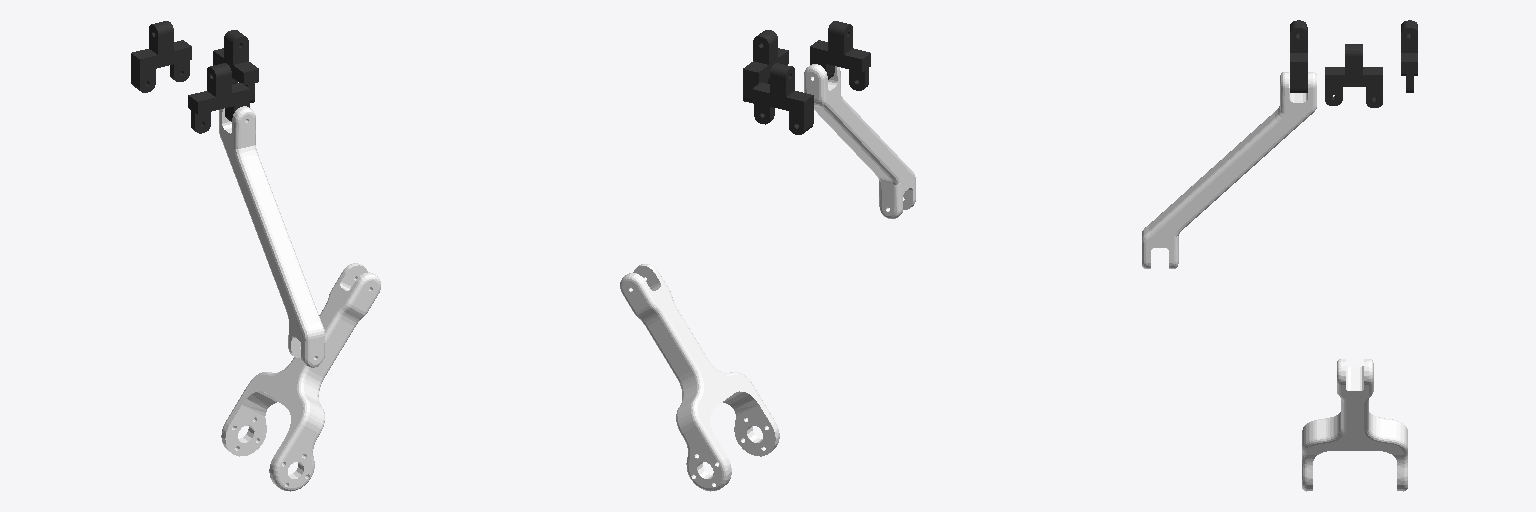
robot.urdf — blue-body2:
<?xml version="1.0" encoding="utf-8"?>
<!-- This URDF was automatically created by SolidWorks to URDF Exporter! Originally created by [author] ([email redacted]) 
     Commit Version: 1.6.0-1-g15f4949  Build Version: 1.6.7594.29634
     For more information, please see http://wiki.ros.org/sw_urdf_exporter -->
<robot
  name="blue-body2">
  <link
    name="base_link">
    <inertial>
      <origin
        xyz="0.000180861278436302 0.0010066992638707 0.0180191600373319"
        rpy="0 0 0" />
      <mass
        value="0.222069356338279" />
      <inertia
        ixx="0.00013051726595754"
        ixy="2.02778699571474E-08"
        ixz="4.11179123299776E-07"
        iyy="0.000241825516008572"
        iyz="-1.51165378052728E-06"
        izz="0.000330666767704576" />
    </inertial>
    <visual>
      <origin
        xyz="0 0 0"
        rpy="0 0 0" />
      <geometry>
        <mesh
          filename="package://blue-body2/meshes/base_link.STL" />
      </geometry>
      <material
        name="">
        <color
          rgba="0.752941176470588 0.752941176470588 0.752941176470588 1" />
      </material>
    </visual>
    <collision>
      <origin
        xyz="0 0 0"
        rpy="0 0 0" />
      <geometry>
        <mesh
          filename="package://blue-body2/meshes/base_link.STL" />
      </geometry>
    </collision>
  </link>
  <link
    name="Link11">
    <inertial>
      <origin
        xyz="0.0346 0.003463 -3.2848E-11"
        rpy="0 0 0" />
      <mass
        value="0.016687" />
      <inertia
        ixx="2.7187E-06"
        ixy="-3.1124E-07"
        ixz="2.1472E-12"
        iyy="1.195E-05"
        iyz="4.8542E-13"
        izz="9.7666E-06" />
    </inertial>
    <visual>
      <origin
        xyz="0 0 0"
        rpy="0 0 0" />
      <geometry>
        <mesh
          filename="package://blue-body2/meshes/Link11.STL" />
      </geometry>
      <material
        name="">
        <color
          rgba="1 1 1 1" />
      </material>
    </visual>
    <collision>
      <origin
        xyz="0 0 0"
        rpy="0 0 0" />
      <geometry>
        <mesh
          filename="package://blue-body2/meshes/Link11.STL" />
      </geometry>
    </collision>
  </link>
  <joint
    name="Joint11"
    type="revolute">
    <origin
      xyz="0.0279 -0.0395 0.040325"
      rpy="1.5708 -0.93181 -1.5708" />
    <parent
      link="base_link" />
    <child
      link="Link11" />
    <axis
      xyz="0 0 -1" />
    <limit
      lower="-0.785"
      upper="0.785"
      effort="100"
      velocity="10" />
  </joint>
  <link
    name="Link21">
    <inertial>
      <origin
        xyz="0.011917746161099 0 3.46944695195361E-18"
        rpy="0 0 0" />
      <mass
        value="0.00283590714079141" />
      <inertia
        ixx="1.58449114328455E-07"
        ixy="2.16706492941807E-24"
        ixz="-4.61653980291068E-25"
        iyy="2.69919583243165E-07"
        iyz="2.16286727549876E-24"
        izz="1.38027104044293E-07" />
    </inertial>
    <visual>
      <origin
        xyz="0 0 0"
        rpy="0 0 0" />
      <geometry>
        <mesh
          filename="package://blue-body2/meshes/Link21.STL" />
      </geometry>
      <material
        name="">
        <color
          rgba="0.250980392156863 0.250980392156863 0.250980392156863 1" />
      </material>
    </visual>
    <collision>
      <origin
        xyz="0 0 0"
        rpy="0 0 0" />
      <geometry>
        <mesh
          filename="package://blue-body2/meshes/Link21.STL" />
      </geometry>
    </collision>
  </link>
  <joint
    name="Joint21"
    type="revolute">
    <origin
      xyz="0.08 0.004 0"
      rpy="0 0 0.63899" />
    <parent
      link="Link11" />
    <child
      link="Link21" />
    <axis
      xyz="0 0 1" />
    <limit
      lower="-1.57"
      upper="1.57"
      effort="100"
      velocity="10" />
  </joint>
  <link
    name="Link31">
    <inertial>
      <origin
        xyz="0.0419999999999998 -8.4049715728951E-09 0.0299999999999993"
        rpy="0 0 0" />
      <mass
        value="0.0115483860896403" />
      <inertia
        ixx="5.72454936139627E-06"
        ixy="4.46491041805618E-22"
        ixz="-6.05605579279737E-06"
        iyy="1.2540943263813E-05"
        iyz="2.03071075031424E-22"
        izz="6.99727115654009E-06" />
    </inertial>
    <visual>
      <origin
        xyz="0 0 0"
        rpy="0 0 0" />
      <geometry>
        <mesh
          filename="package://blue-body2/meshes/Link31.STL" />
      </geometry>
      <material
        name="">
        <color
          rgba="1 1 1 1" />
      </material>
    </visual>
    <collision>
      <origin
        xyz="0 0 0"
        rpy="0 0 0" />
      <geometry>
        <mesh
          filename="package://blue-body2/meshes/Link31.STL" />
      </geometry>
    </collision>
  </link>
  <joint
    name="Joint31"
    type="revolute">
    <origin
      xyz="0.02 0 -0.0088"
      rpy="-1.5708 0.019311 0" />
    <parent
      link="Link21" />
    <child
      link="Link31" />
    <axis
      xyz="0 0 1" />
    <limit
      lower="-1.57"
      upper="1.57"
      effort="100"
      velocity="10" />
  </joint>
  <link
    name="Link41">
    <inertial>
      <origin
        xyz="0.0078588854038606 0.00884767772659442 3.46944695195361E-18"
        rpy="0 0 0" />
      <mass
        value="0.00259356350675444" />
      <inertia
        ixx="1.22895172299773E-07"
        ixy="-1.8405238722096E-08"
        ixz="2.19747941719554E-24"
        iyy="1.38231154748668E-07"
        iyz="7.88832238961713E-24"
        izz="2.38051489435071E-07" />
    </inertial>
    <visual>
      <origin
        xyz="0 0 0"
        rpy="0 0 0" />
      <geometry>
        <mesh
          filename="package://blue-body2/meshes/Link41.STL" />
      </geometry>
      <material
        name="">
        <color
          rgba="0.250980392156863 0.250980392156863 0.250980392156863 1" />
      </material>
    </visual>
    <collision>
      <origin
        xyz="0 0 0"
        rpy="0 0 0" />
      <geometry>
        <mesh
          filename="package://blue-body2/meshes/Link41.STL" />
      </geometry>
    </collision>
  </link>
  <joint
    name="Joint41"
    type="revolute">
    <origin
      xyz="0.084 0 0.06"
      rpy="0 0 -1.5901" />
    <parent
      link="Link31" />
    <child
      link="Link41" />
    <axis
      xyz="0 0 1" />
    <limit
      lower="-1.57"
      upper="1.57"
      effort="100"
      velocity="10" />
  </joint>
  <link
    name="Link32">
    <inertial>
      <origin
        xyz="0.0419999999999999 -8.404971579834E-09 0.0299999999999993"
        rpy="0 0 0" />
      <mass
        value="0.0115483860896403" />
      <inertia
        ixx="5.72454936139627E-06"
        ixy="1.29206127228203E-21"
        ixz="-6.05605579279737E-06"
        iyy="1.2540943263813E-05"
        iyz="8.0666589277919E-22"
        izz="6.99727115654008E-06" />
    </inertial>
    <visual>
      <origin
        xyz="0 0 0"
        rpy="0 0 0" />
      <geometry>
        <mesh
          filename="package://blue-body2/meshes/Link32.STL" />
      </geometry>
      <material
        name="">
        <color
          rgba="1 1 1 1" />
      </material>
    </visual>
    <collision>
      <origin
        xyz="0 0 0"
        rpy="0 0 0" />
      <geometry>
        <mesh
          filename="package://blue-body2/meshes/Link32.STL" />
      </geometry>
    </collision>
  </link>
  <joint
    name="Joint32"
    type="revolute">
    <origin
      xyz="0.02 0 0.0088"
      rpy="-1.5708 0.019311 0" />
    <parent
      link="Link21" />
    <child
      link="Link32" />
    <axis
      xyz="0 0 1" />
    <limit
      lower="-1.57"
      upper="1.57"
      effort="100"
      velocity="10" />
  </joint>
  <link
    name="Link12">
    <inertial>
      <origin
        xyz="0.0345998920448606 0.00346296665203295 -3.28480818934107E-11"
        rpy="0 0 0" />
      <mass
        value="0.0166874190273954" />
      <inertia
        ixx="2.71867883613876E-06"
        ixy="-3.11242617968806E-07"
        ixz="2.14716480691004E-12"
        iyy="1.19502194346627E-05"
        iyz="4.85420248030247E-13"
        izz="9.76664595710977E-06" />
    </inertial>
    <visual>
      <origin
        xyz="0 0 0"
        rpy="0 0 0" />
      <geometry>
        <mesh
          filename="package://blue-body2/meshes/Link12.STL" />
      </geometry>
      <material
        name="">
        <color
          rgba="1 1 1 1" />
      </material>
    </visual>
    <collision>
      <origin
        xyz="0 0 0"
        rpy="0 0 0" />
      <geometry>
        <mesh
          filename="package://blue-body2/meshes/Link12.STL" />
      </geometry>
    </collision>
  </link>
  <joint
    name="Joint12"
    type="revolute">
    <origin
      xyz="0.0279 0.0395 0.040325"
      rpy="1.5708 -0.93181 1.5708" />
    <parent
      link="base_link" />
    <child
      link="Link12" />
    <axis
      xyz="0 0 -1" />
    <limit
      lower="-0.785"
      upper="0.785"
      effort="100"
      velocity="10" />
  </joint>
  <link
    name="Link22">
    <inertial>
      <origin
        xyz="0.011917746161099 0 -3.46944695195361E-18"
        rpy="0 0 0" />
      <mass
        value="0.00283590714079142" />
      <inertia
        ixx="1.58449114328455E-07"
        ixy="-7.19151188700481E-24"
        ixz="-1.62731935870126E-23"
        iyy="2.69919583243166E-07"
        iyz="-1.89250886606142E-24"
        izz="1.38027104044294E-07" />
    </inertial>
    <visual>
      <origin
        xyz="0 0 0"
        rpy="0 0 0" />
      <geometry>
        <mesh
          filename="package://blue-body2/meshes/Link22.STL" />
      </geometry>
      <material
        name="">
        <color
          rgba="0.250980392156863 0.250980392156863 0.250980392156863 1" />
      </material>
    </visual>
    <collision>
      <origin
        xyz="0 0 0"
        rpy="0 0 0" />
      <geometry>
        <mesh
          filename="package://blue-body2/meshes/Link22.STL" />
      </geometry>
    </collision>
  </link>
  <joint
    name="Joint22"
    type="revolute">
    <origin
      xyz="0.08 0.004 0"
      rpy="0 0 0.63899" />
    <parent
      link="Link12" />
    <child
      link="Link22" />
    <axis
      xyz="0 0 -1" />
    <limit
      lower="-1.57"
      upper="1.57"
      effort="100"
      velocity="10" />
  </joint>
  <link
    name="Link33">
    <inertial>
      <origin
        xyz="0.042 -8.404971579834E-09 0.0299999999999993"
        rpy="0 0 0" />
      <mass
        value="0.0115483860896403" />
      <inertia
        ixx="5.72454936139627E-06"
        ixy="2.65515621505318E-22"
        ixz="-6.05605579279737E-06"
        iyy="1.2540943263813E-05"
        iyz="-3.41658842070411E-22"
        izz="6.99727115654009E-06" />
    </inertial>
    <visual>
      <origin
        xyz="0 0 0"
        rpy="0 0 0" />
      <geometry>
        <mesh
          filename="package://blue-body2/meshes/Link33.STL" />
      </geometry>
      <material
        name="">
        <color
          rgba="1 1 1 1" />
      </material>
    </visual>
    <collision>
      <origin
        xyz="0 0 0"
        rpy="0 0 0" />
      <geometry>
        <mesh
          filename="package://blue-body2/meshes/Link33.STL" />
      </geometry>
    </collision>
  </link>
  <joint
    name="Joint33"
    type="revolute">
    <origin
      xyz="0.02 0 -0.0088"
      rpy="-1.5708 -0.019311 0" />
    <parent
      link="Link22" />
    <child
      link="Link33" />
    <axis
      xyz="0 0 1" />
    <limit
      lower="-1.57"
      upper="1.57"
      effort="100"
      velocity="10" />
  </joint>
  <link
    name="Link42">
    <inertial>
      <origin
        xyz="0.00785888540386061 0.00884767772659442 3.46944695195361E-17"
        rpy="0 0 0" />
      <mass
        value="0.00259356350675444" />
      <inertia
        ixx="1.22895172299773E-07"
        ixy="-1.84052387220959E-08"
        ixz="-4.96254844176532E-22"
        iyy="1.38231154748668E-07"
        iyz="-7.94924329871085E-23"
        izz="2.38051489435071E-07" />
    </inertial>
    <visual>
      <origin
        xyz="0 0 0"
        rpy="0 0 0" />
      <geometry>
        <mesh
          filename="package://blue-body2/meshes/Link42.STL" />
      </geometry>
      <material
        name="">
        <color
          rgba="0.250980392156863 0.250980392156863 0.250980392156863 1" />
      </material>
    </visual>
    <collision>
      <origin
        xyz="0 0 0"
        rpy="0 0 0" />
      <geometry>
        <mesh
          filename="package://blue-body2/meshes/Link42.STL" />
      </geometry>
    </collision>
  </link>
  <joint
    name="Joint42"
    type="revolute">
    <origin
      xyz="0.084 0 0.06"
      rpy="0 0 -1.5515" />
    <parent
      link="Link33" />
    <child
      link="Link42" />
    <axis
      xyz="0 0 1" />
    <limit
      lower="-1.57"
      upper="1.57"
      effort="100"
      velocity="10" />
  </joint>
  <link
    name="Link34">
    <inertial>
      <origin
        xyz="0.0419999999999998 -8.404971579834E-09 0.0299999999999993"
        rpy="0 0 0" />
      <mass
        value="0.0115483860896403" />
      <inertia
        ixx="5.72454936139629E-06"
        ixy="-2.03261084124866E-22"
        ixz="-6.05605579279738E-06"
        iyy="1.25409432638131E-05"
        iyz="-3.9627722181319E-23"
        izz="6.9972711565401E-06" />
    </inertial>
    <visual>
      <origin
        xyz="0 0 0"
        rpy="0 0 0" />
      <geometry>
        <mesh
          filename="package://blue-body2/meshes/Link34.STL" />
      </geometry>
      <material
        name="">
        <color
          rgba="1 1 1 1" />
      </material>
    </visual>
    <collision>
      <origin
        xyz="0 0 0"
        rpy="0 0 0" />
      <geometry>
        <mesh
          filename="package://blue-body2/meshes/Link34.STL" />
      </geometry>
    </collision>
  </link>
  <joint
    name="Joint34"
    type="revolute">
    <origin
      xyz="0.02 0 0.0088"
      rpy="-1.5708 -0.019311 0" />
    <parent
      link="Link22" />
    <child
      link="Link34" />
    <axis
      xyz="0 0 1" />
    <limit
      lower="-1.57"
      upper="1.57"
      effort="100"
      velocity="10" />
  </joint>
  <link
    name="Link13">
    <inertial>
      <origin
        xyz="0.0345998920451014 0.00346296665206573 -3.27530298889489E-11"
        rpy="0 0 0" />
      <mass
        value="0.016687419027141" />
      <inertia
        ixx="2.71867883606392E-06"
        ixy="-3.11242617945606E-07"
        ixz="2.14717583514869E-12"
        iyy="1.19502194345296E-05"
        iyz="4.85423279803784E-13"
        izz="9.76664595703467E-06" />
    </inertial>
    <visual>
      <origin
        xyz="0 0 0"
        rpy="0 0 0" />
      <geometry>
        <mesh
          filename="package://blue-body2/meshes/Link13.STL" />
      </geometry>
      <material
        name="">
        <color
          rgba="1 1 1 1" />
      </material>
    </visual>
    <collision>
      <origin
        xyz="0 0 0"
        rpy="0 0 0" />
      <geometry>
        <mesh
          filename="package://blue-body2/meshes/Link13.STL" />
      </geometry>
    </collision>
  </link>
  <joint
    name="Joint13"
    type="revolute">
    <origin
      xyz="0.067 0.0004 0.040325"
      rpy="1.5708 -0.93148 0" />
    <parent
      link="base_link" />
    <child
      link="Link13" />
    <axis
      xyz="0 0 -1" />
    <limit
      lower="-0.785"
      upper="0.785"
      effort="100"
      velocity="10" />
  </joint>
  <link
    name="Link23">
    <inertial>
      <origin
        xyz="0.011917746161099 0 -3.25260651745651E-19"
        rpy="0 0 0" />
      <mass
        value="0.00283590714079141" />
      <inertia
        ixx="1.58449114328455E-07"
        ixy="-4.19169382709432E-24"
        ixz="5.88776286318216E-24"
        iyy="2.69919583243165E-07"
        iyz="-5.36687924613788E-24"
        izz="1.38027104044293E-07" />
    </inertial>
    <visual>
      <origin
        xyz="0 0 0"
        rpy="0 0 0" />
      <geometry>
        <mesh
          filename="package://blue-body2/meshes/Link23.STL" />
      </geometry>
      <material
        name="">
        <color
          rgba="0.250980392156863 0.250980392156863 0.250980392156863 1" />
      </material>
    </visual>
    <collision>
      <origin
        xyz="0 0 0"
        rpy="0 0 0" />
      <geometry>
        <mesh
          filename="package://blue-body2/meshes/Link23.STL" />
      </geometry>
    </collision>
  </link>
  <joint
    name="Joint23"
    type="revolute">
    <origin
      xyz="0.08 0.004 0"
      rpy="0 0 0.63932" />
    <parent
      link="Link13" />
    <child
      link="Link23" />
    <axis
      xyz="0 0 1" />
    <limit
      lower="-1.57"
      upper="1.57"
      effort="100"
      velocity="10" />
  </joint>
  <link
    name="Link35">
    <inertial>
      <origin
        xyz="0.0419999999999999 -8.40497157809927E-09 0.0299999999999993"
        rpy="0 0 0" />
      <mass
        value="0.0115483860896402" />
      <inertia
        ixx="5.72454936139627E-06"
        ixy="2.71315240917393E-22"
        ixz="-6.05605579279737E-06"
        iyy="1.2540943263813E-05"
        iyz="2.77462517222554E-22"
        izz="6.99727115654008E-06" />
    </inertial>
    <visual>
      <origin
        xyz="0 0 0"
        rpy="0 0 0" />
      <geometry>
        <mesh
          filename="package://blue-body2/meshes/Link35.STL" />
      </geometry>
      <material
        name="">
        <color
          rgba="1 1 1 1" />
      </material>
    </visual>
    <collision>
      <origin
        xyz="0 0 0"
        rpy="0 0 0" />
      <geometry>
        <mesh
          filename="package://blue-body2/meshes/Link35.STL" />
      </geometry>
    </collision>
  </link>
  <joint
    name="Joint35"
    type="revolute">
    <origin
      xyz="0.02 0 -0.0088"
      rpy="-1.5708 -0.0047619 0" />
    <parent
      link="Link23" />
    <child
      link="Link35" />
    <axis
      xyz="0 0 1" />
    <limit
      lower="-1.57"
      upper="1.57"
      effort="100"
      velocity="10" />
  </joint>
  <link
    name="Link43">
    <inertial>
      <origin
        xyz="0.0078588854038606 0.00884767772659445 -6.93889390390723E-18"
        rpy="0 0 0" />
      <mass
        value="0.00259356350675444" />
      <inertia
        ixx="1.22895172299773E-07"
        ixy="-1.8405238722096E-08"
        ixz="-2.61144539108882E-25"
        iyy="1.38231154748668E-07"
        iyz="5.4058347824152E-24"
        izz="2.38051489435071E-07" />
    </inertial>
    <visual>
      <origin
        xyz="0 0 0"
        rpy="0 0 0" />
      <geometry>
        <mesh
          filename="package://blue-body2/meshes/Link43.STL" />
      </geometry>
      <material
        name="">
        <color
          rgba="0.250980392156863 0.250980392156863 0.250980392156863 1" />
      </material>
    </visual>
    <collision>
      <origin
        xyz="0 0 0"
        rpy="0 0 0" />
      <geometry>
        <mesh
          filename="package://blue-body2/meshes/Link43.STL" />
      </geometry>
    </collision>
  </link>
  <joint
    name="Joint43"
    type="revolute">
    <origin
      xyz="0.084 0 0.06"
      rpy="0 0 -1.566" />
    <parent
      link="Link35" />
    <child
      link="Link43" />
    <axis
      xyz="0 0 1" />
    <limit
      lower="-1.57"
      upper="1.57"
      effort="100"
      velocity="10" />
  </joint>
  <link
    name="Link36">
    <inertial>
      <origin
        xyz="0.0419999999999999 -8.40497158503817E-09 0.0299999999999993"
        rpy="0 0 0" />
      <mass
        value="0.0115483860896403" />
      <inertia
        ixx="5.72454936139628E-06"
        ixy="-4.2351647362715E-22"
        ixz="-6.05605579279738E-06"
        iyy="1.25409432638131E-05"
        iyz="6.51059998407741E-23"
        izz="6.9972711565401E-06" />
    </inertial>
    <visual>
      <origin
        xyz="0 0 0"
        rpy="0 0 0" />
      <geometry>
        <mesh
          filename="package://blue-body2/meshes/Link36.STL" />
      </geometry>
      <material
        name="">
        <color
          rgba="1 1 1 1" />
      </material>
    </visual>
    <collision>
      <origin
        xyz="0 0 0"
        rpy="0 0 0" />
      <geometry>
        <mesh
          filename="package://blue-body2/meshes/Link36.STL" />
      </geometry>
    </collision>
  </link>
  <joint
    name="Joint36"
    type="revolute">
    <origin
      xyz="0.02 0 0.0088"
      rpy="-1.5708 -0.0047619 0" />
    <parent
      link="Link23" />
    <child
      link="Link36" />
    <axis
      xyz="0 0 1" />
    <limit
      lower="-1.57"
      upper="1.57"
      effort="100"
      velocity="10" />
  </joint>
</robot>

--- Render facts (derived) ---
3 views of the same robot in one strip: view 1: azimuth 30°, elevation 25°; view 2: azimuth 150°, elevation 25°; view 3: azimuth 270°, elevation 25° (orthographic).
Model blue-body2 with 16 links and 15 joints (15 revolute), rooted at base_link, posed all joints at 0.
Visible links, largest first — view 1: Link13, Link31, Link42, Link41, Link43; view 2: Link13, Link31, Link42, Link41, Link43; view 3: Link31, Link13, Link43, Link41, Link42.
Link boxes in pixels (bbox=[...]): Link13: bbox=[221, 263, 380, 491]; Link31: bbox=[219, 106, 324, 367]; Link42: bbox=[131, 21, 191, 92]; Link41: bbox=[188, 63, 249, 133]; Link43: bbox=[213, 30, 258, 102]; Link13: bbox=[620, 264, 779, 491]; Link31: bbox=[804, 64, 915, 218]; Link42: bbox=[752, 63, 813, 134]; Link41: bbox=[810, 21, 870, 90]; Link43: bbox=[743, 30, 788, 103]; Link31: bbox=[1142, 72, 1316, 268]; Link13: bbox=[1302, 359, 1407, 491]; Link43: bbox=[1325, 44, 1382, 107]; Link41: bbox=[1290, 20, 1307, 92]; Link42: bbox=[1401, 20, 1417, 92].
Bounding box of the posed robot: 0.1006 × 0.1198 × 0.2046 m (x, y, z).
5 mesh visuals loaded from 16 distinct referenced files (5 binary STL); not drawn: 11 (reference not matched to a file when rendering).